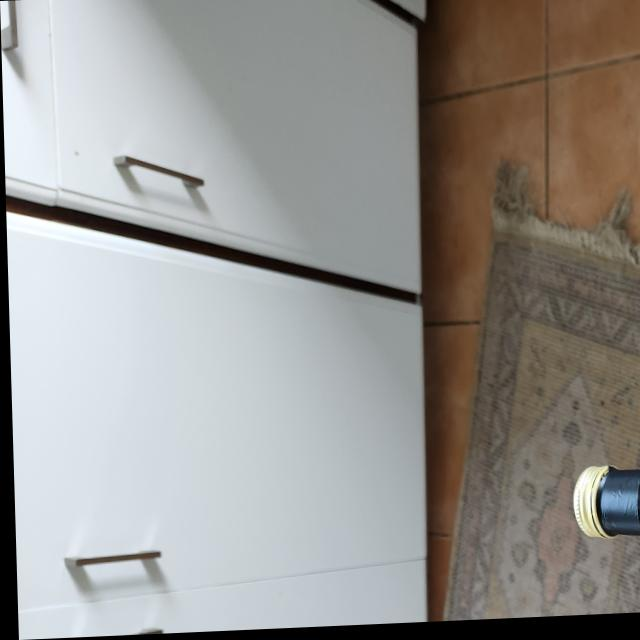balsamic vinegar: (567, 429, 640, 621)
